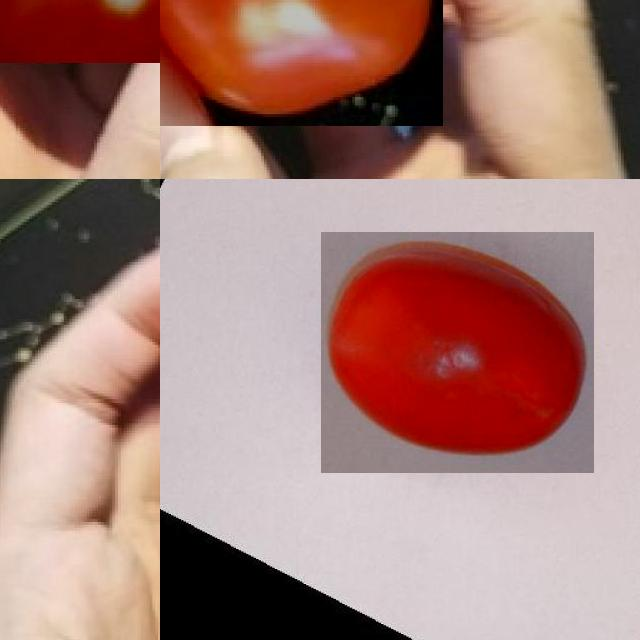0: (321, 232, 594, 473)
Fresh Tomato: (160, 0, 442, 126), (0, 0, 160, 63)
